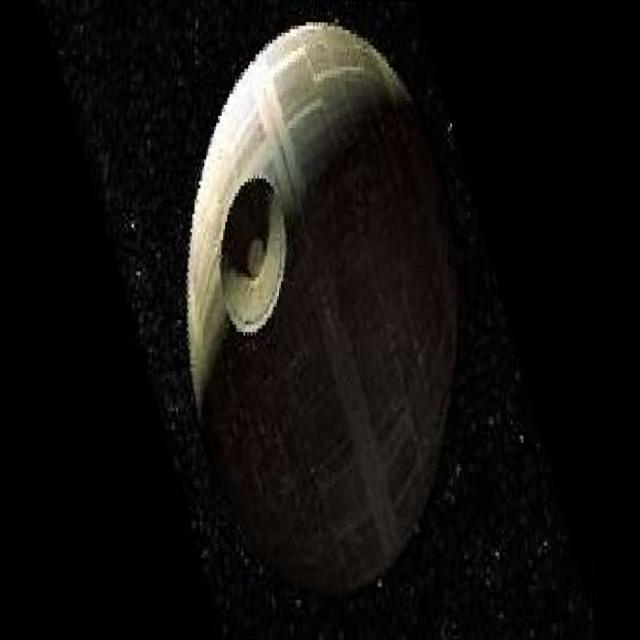Death Star: (173, 12, 470, 599)
